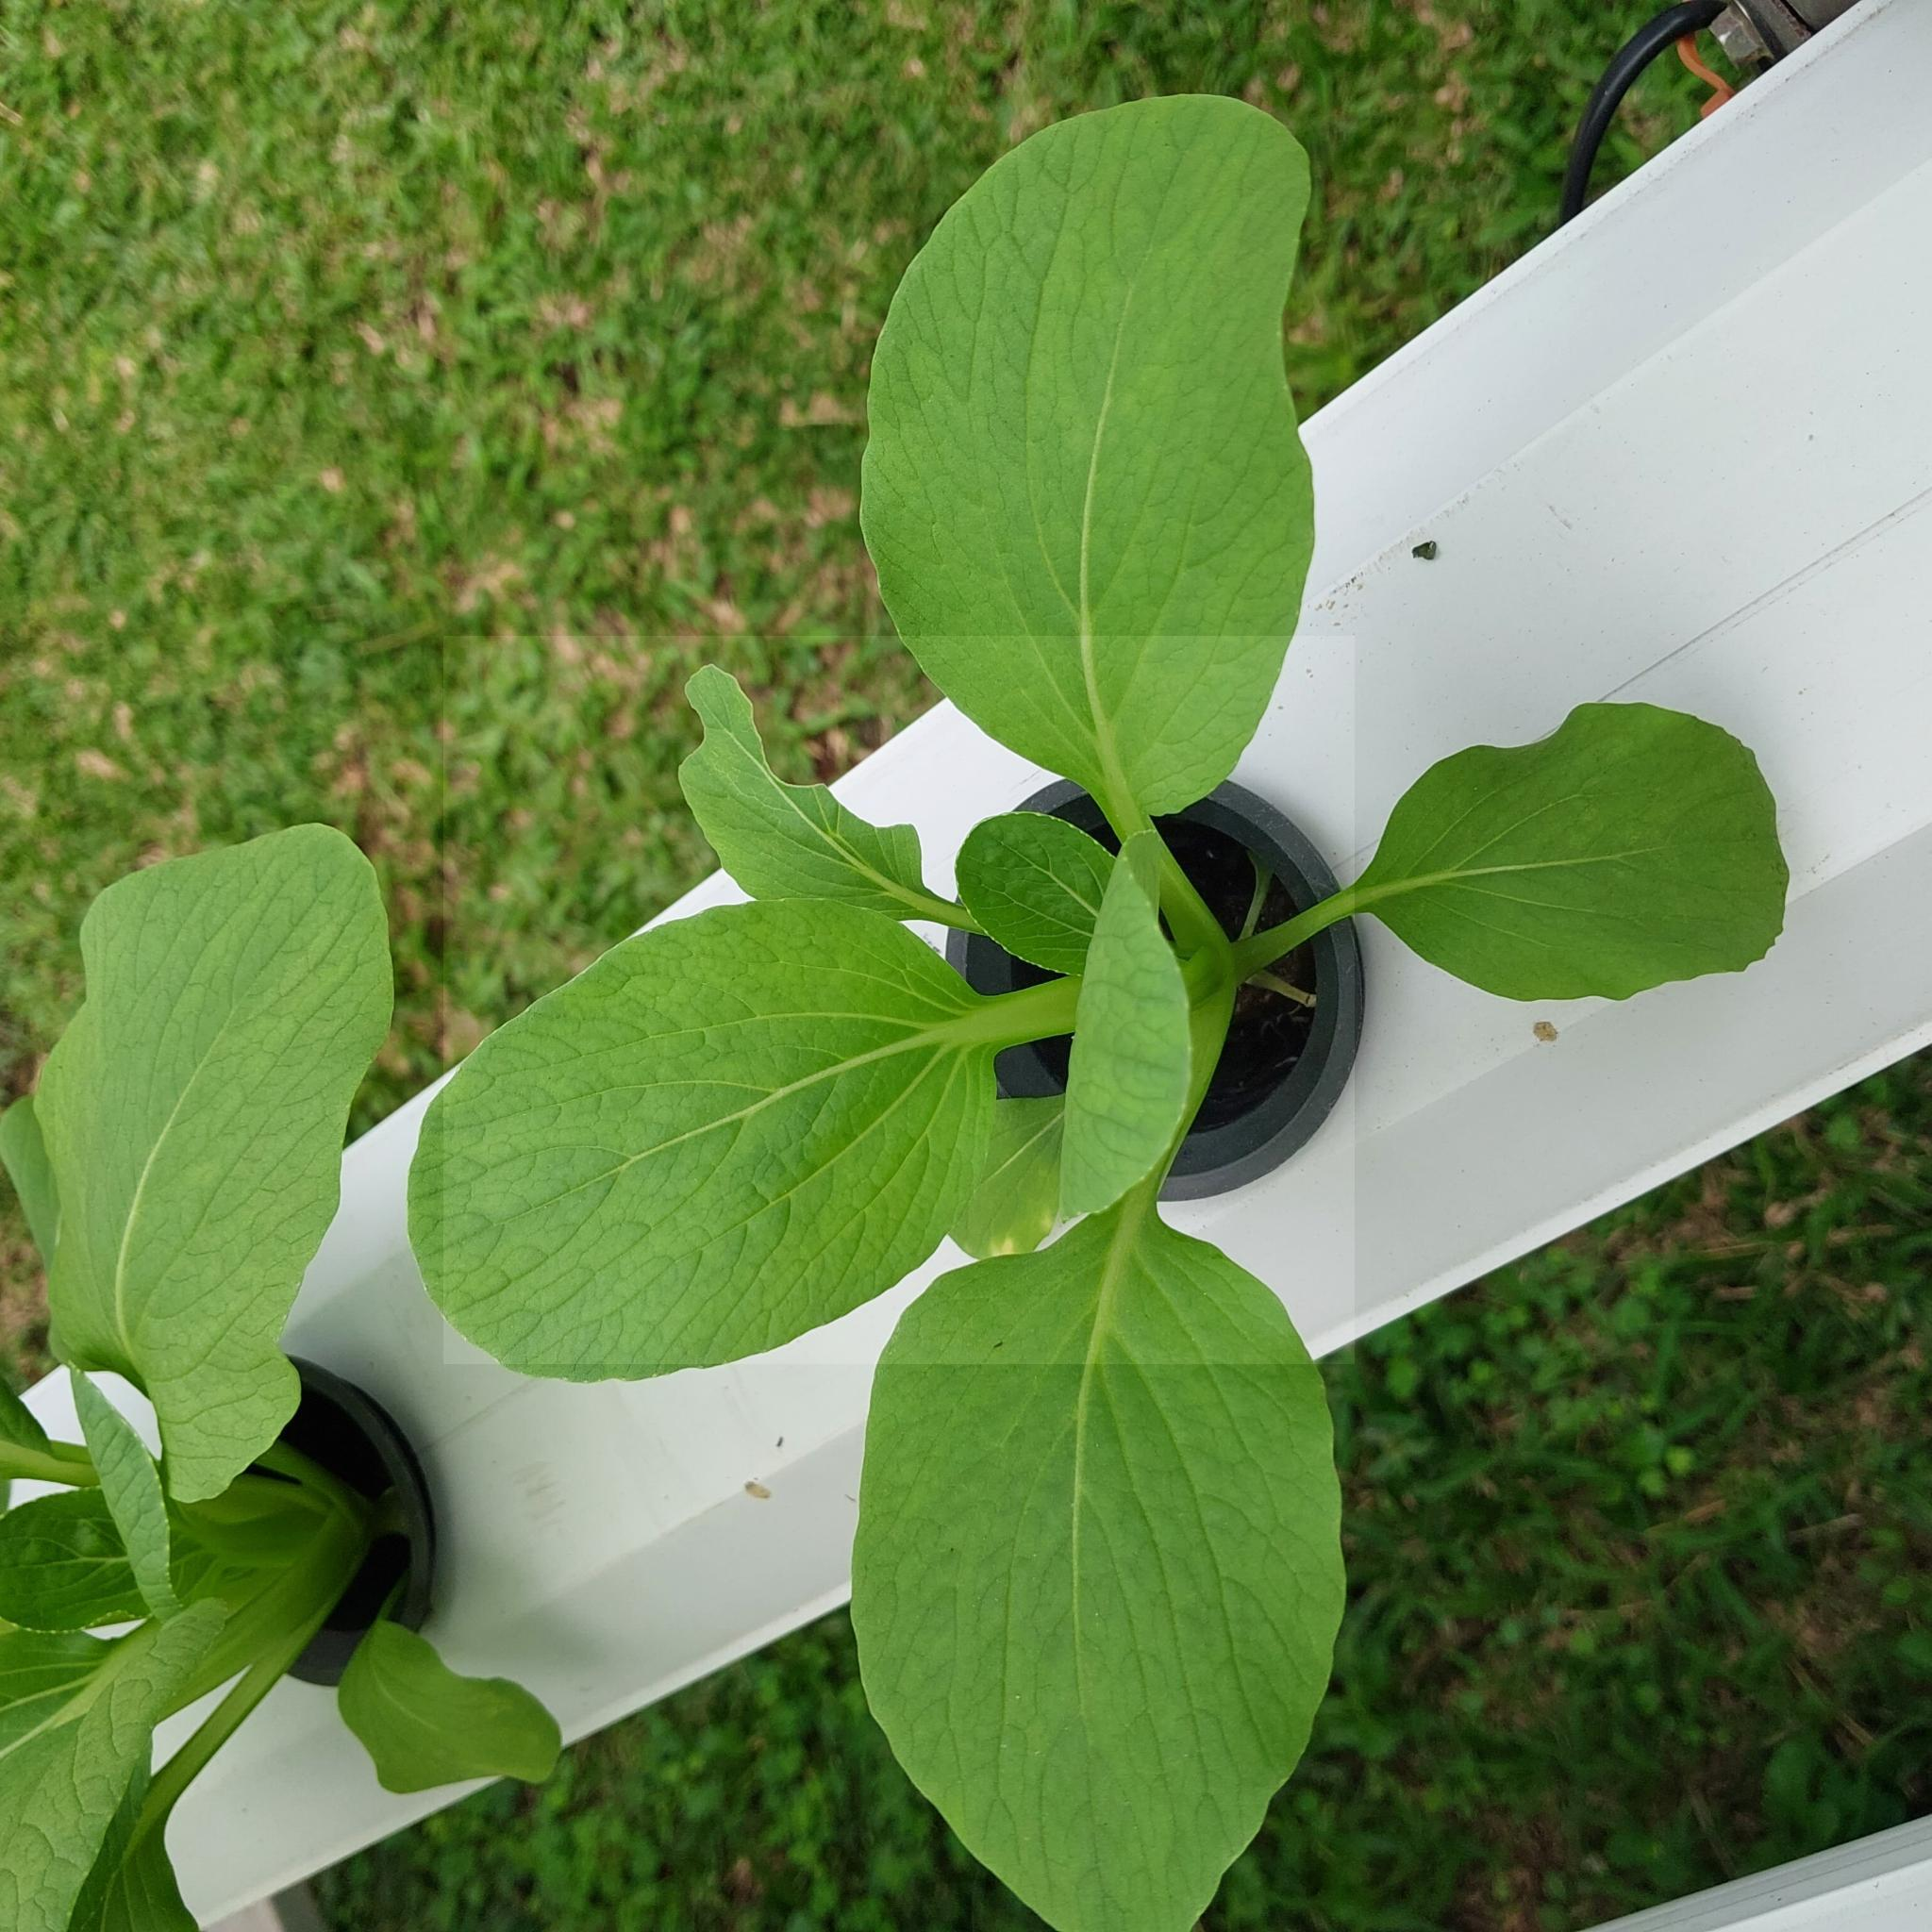Healthy-Pechay: (860, 88, 1288, 872), (881, 1194, 1315, 1921), (412, 915, 975, 1353), (42, 833, 393, 1481), (0, 1422, 327, 1930), (665, 662, 968, 939), (1387, 768, 1668, 904), (65, 1366, 180, 1628), (683, 663, 761, 747)
